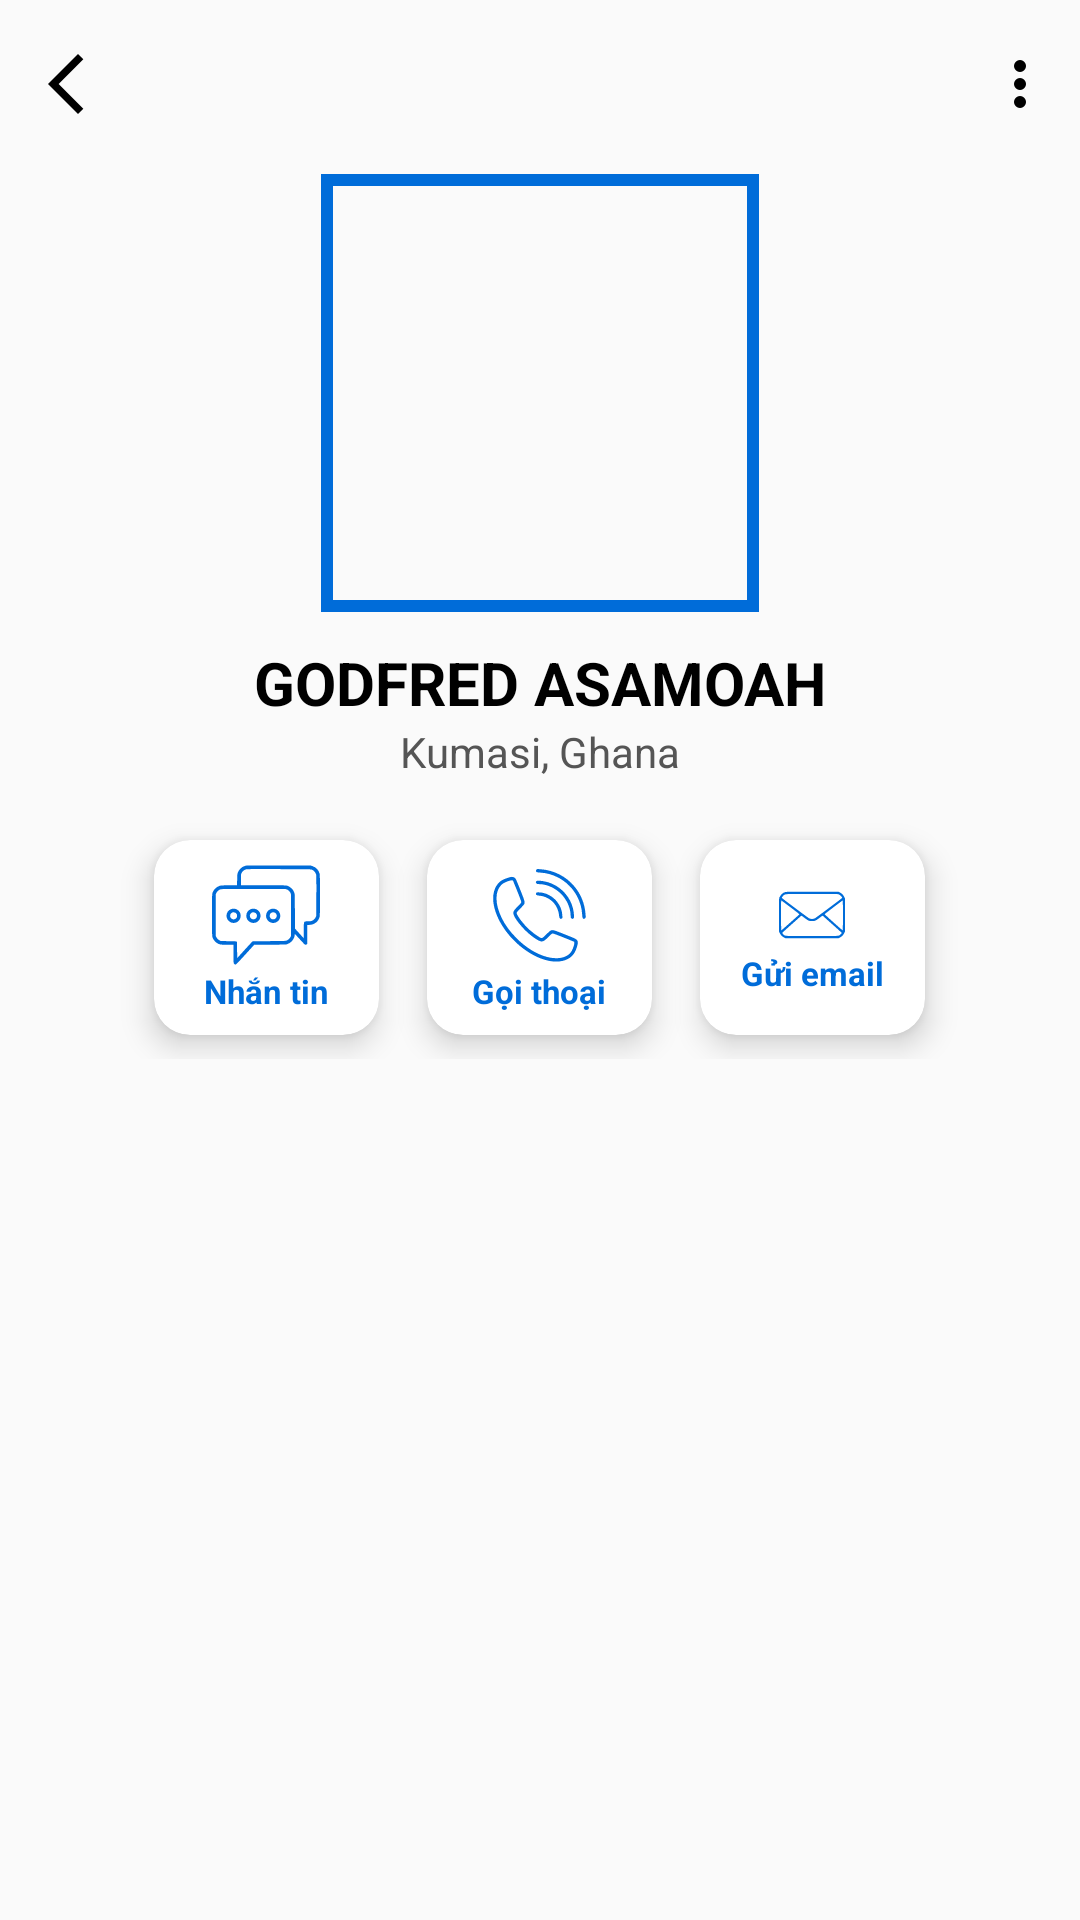

Icons on this 1080px×1920px Android screen, each with the point to tap as (x,y):
arrow back: (65,84)
more vert: (1020,84)
